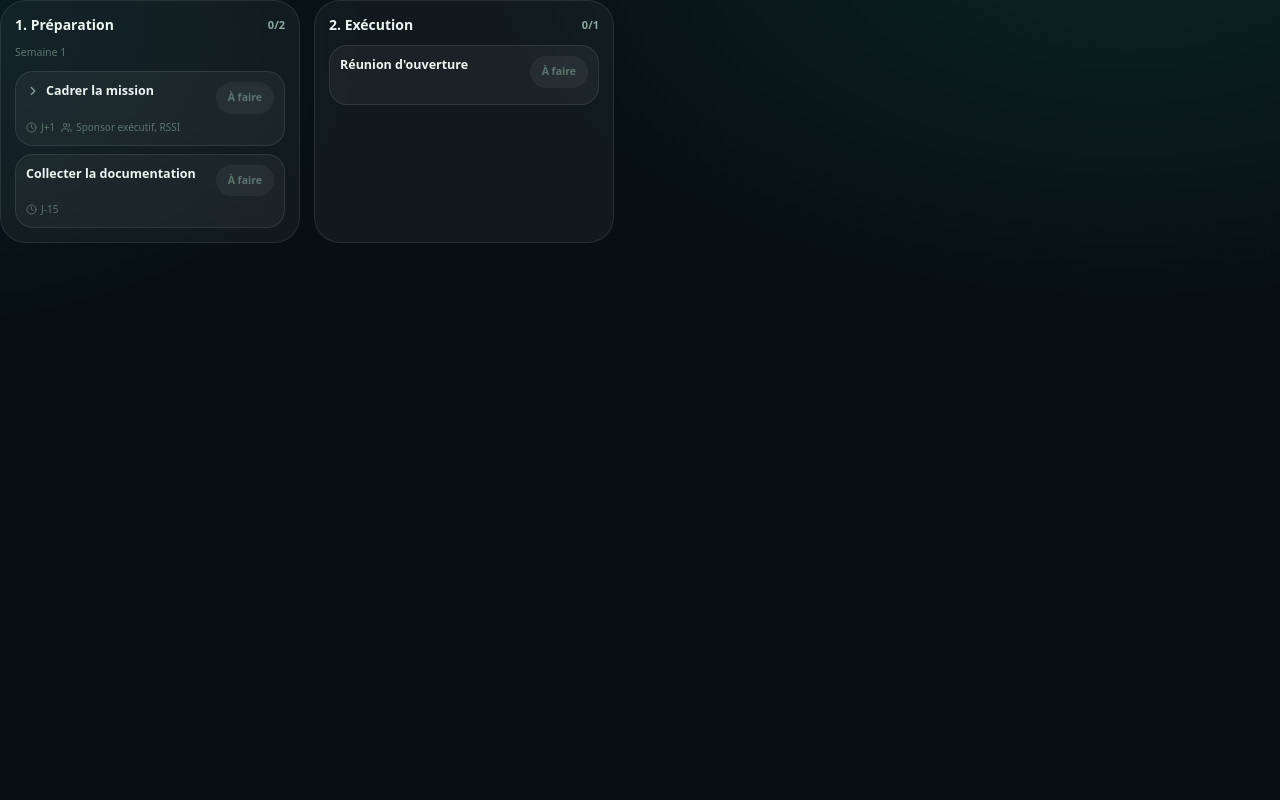
Test case: PhaseKanban › réaffiche une valeur texte déjà saisie (relecture après sauvegarde)
Click the button "Cadrer la mission". click: click(117, 90)
box: [26,82,208,99]
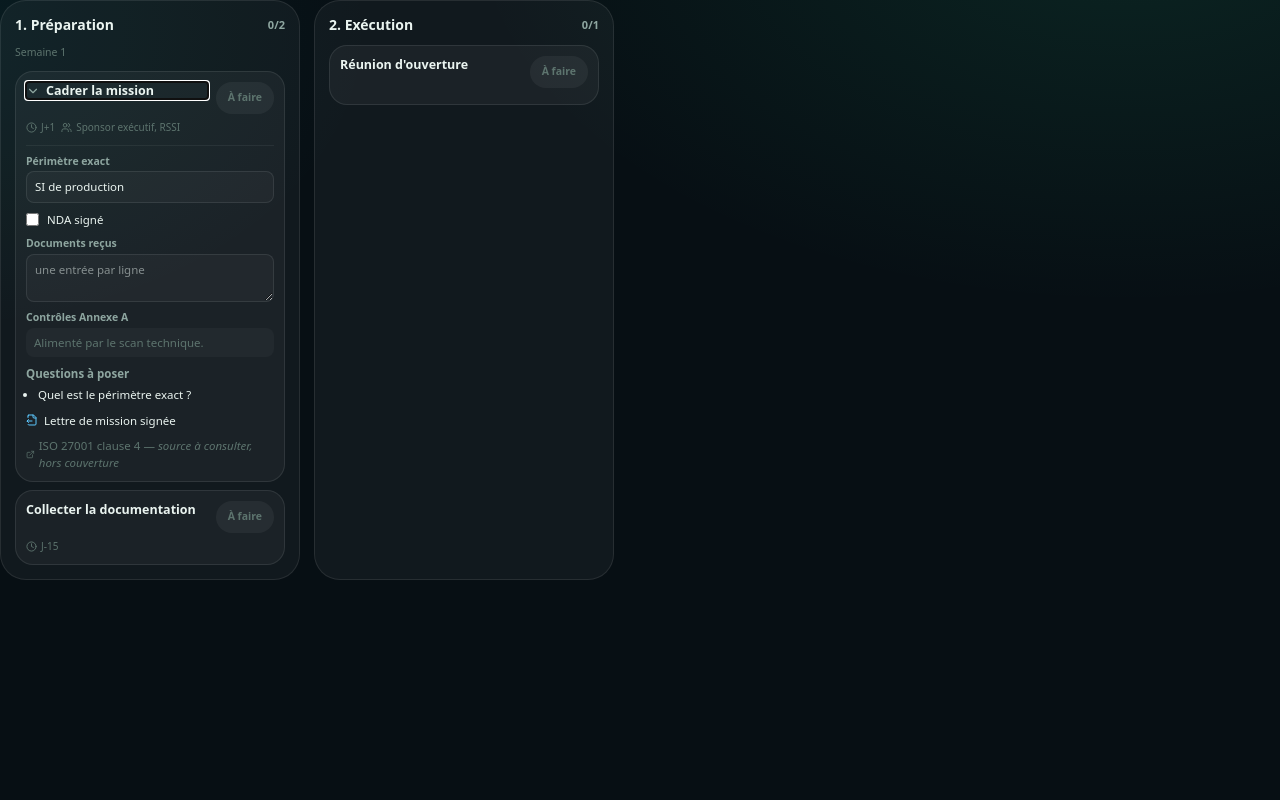
Check: the field labelled "Périmètre exact" holds "SI de production", box [26,171,274,203]
